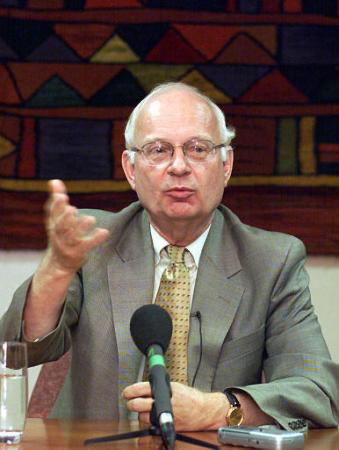Face: (130, 104, 230, 221)
